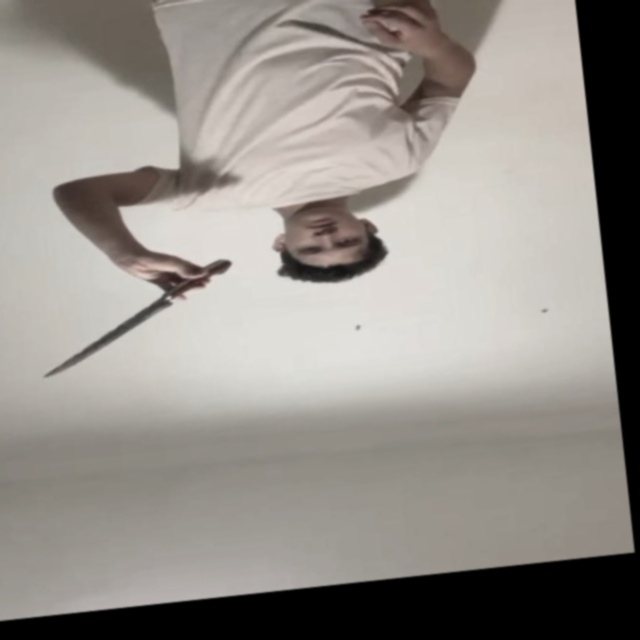Sharp-Object: (38, 299, 173, 378)
